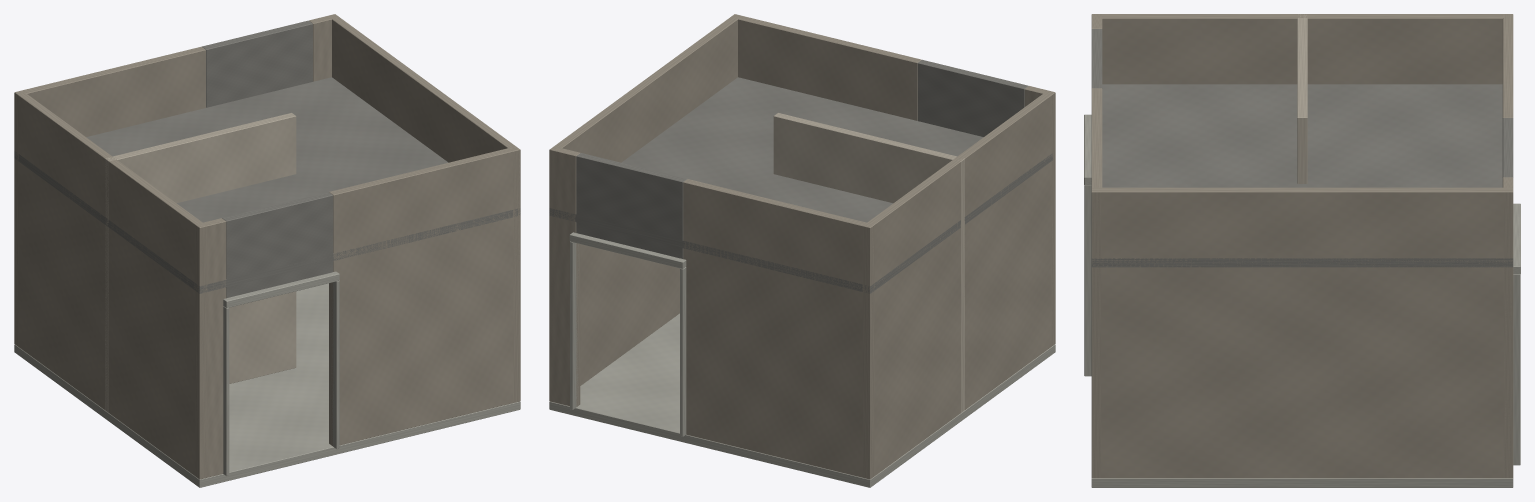
Rendered from I01_OffsetVestibule_visual.glb.
3 views of the same model, side by side, from view 1: azimuth 30°, elevation 25°; view 2: azimuth 150°, elevation 25°; view 3: azimuth 270°, elevation 25° (orthographic). The views are drawn at different scales.
Parts seen in each view (by area): view 1: I01_OffsetVestibule__VIS_shell, I01_OffsetVestibule__VIS_roof; view 2: I01_OffsetVestibule__VIS_shell, I01_OffsetVestibule__VIS_roof; view 3: I01_OffsetVestibule__VIS_shell, I01_OffsetVestibule__VIS_roof.
Part boxes in pixels (x1,y1,x2,y2): I01_OffsetVestibule__VIS_shell: (14,14,520,487); I01_OffsetVestibule__VIS_roof: (14,77,520,293); I01_OffsetVestibule__VIS_shell: (549,14,1055,487); I01_OffsetVestibule__VIS_roof: (549,77,1053,293); I01_OffsetVestibule__VIS_shell: (1084,14,1520,487); I01_OffsetVestibule__VIS_roof: (1091,84,1513,267).
Bounding box in the file's own units: 24 × 18.6 × 24.86.
Materials: 1 (1 with a texture image).
